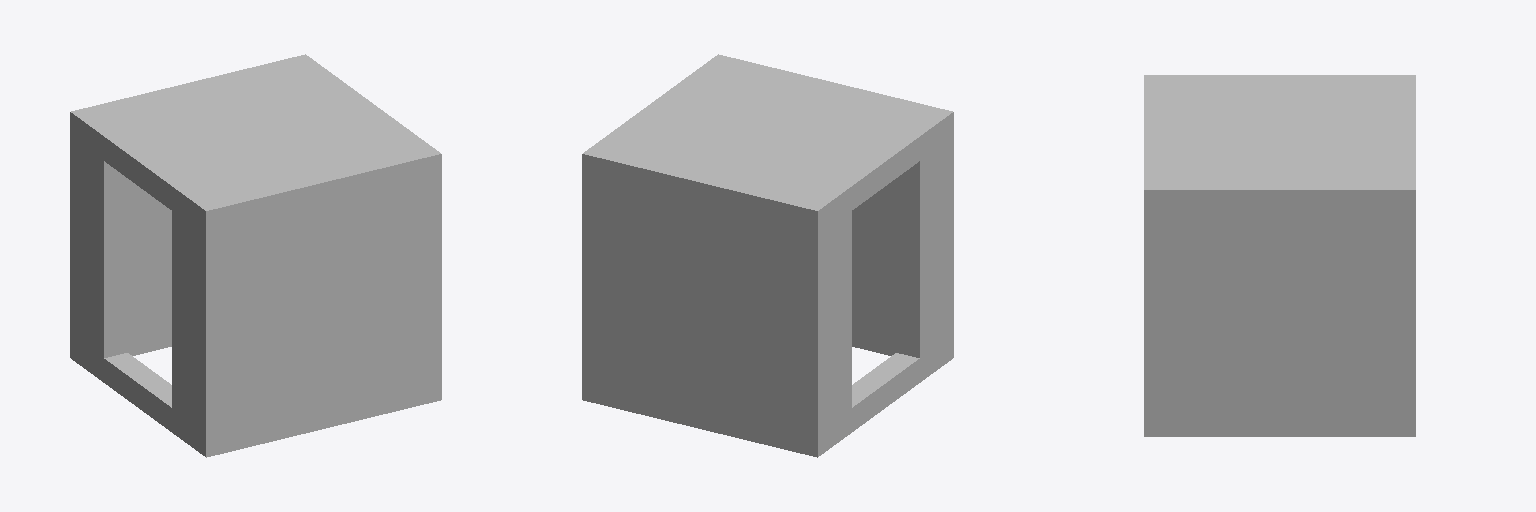
3 renders of one model, left to right at view 1: azimuth 30°, elevation 25°; view 2: azimuth 150°, elevation 25°; view 3: azimuth 270°, elevation 25°, orthographic.
Parts seen in each view (by area): view 1: objRegroup01; view 2: objRegroup01; view 3: objRegroup01.
Boxes of the visible parts, <box> form: objRegroup01: <box>70,54,441,457</box>; objRegroup01: <box>582,54,953,457</box>; objRegroup01: <box>1144,75,1415,436</box>.
Bounding box in the file's own units: 10 × 10 × 10.